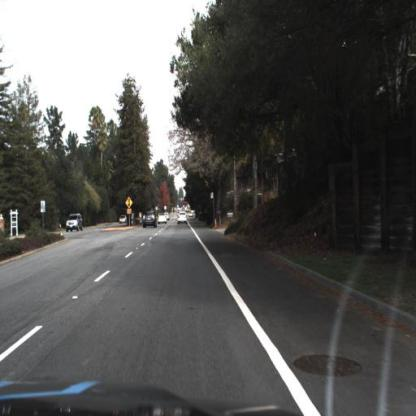car: (65, 211, 84, 237), (142, 207, 161, 233), (65, 211, 83, 234), (177, 209, 190, 229), (158, 214, 170, 232), (157, 211, 170, 227), (118, 213, 128, 229), (117, 214, 129, 227)
